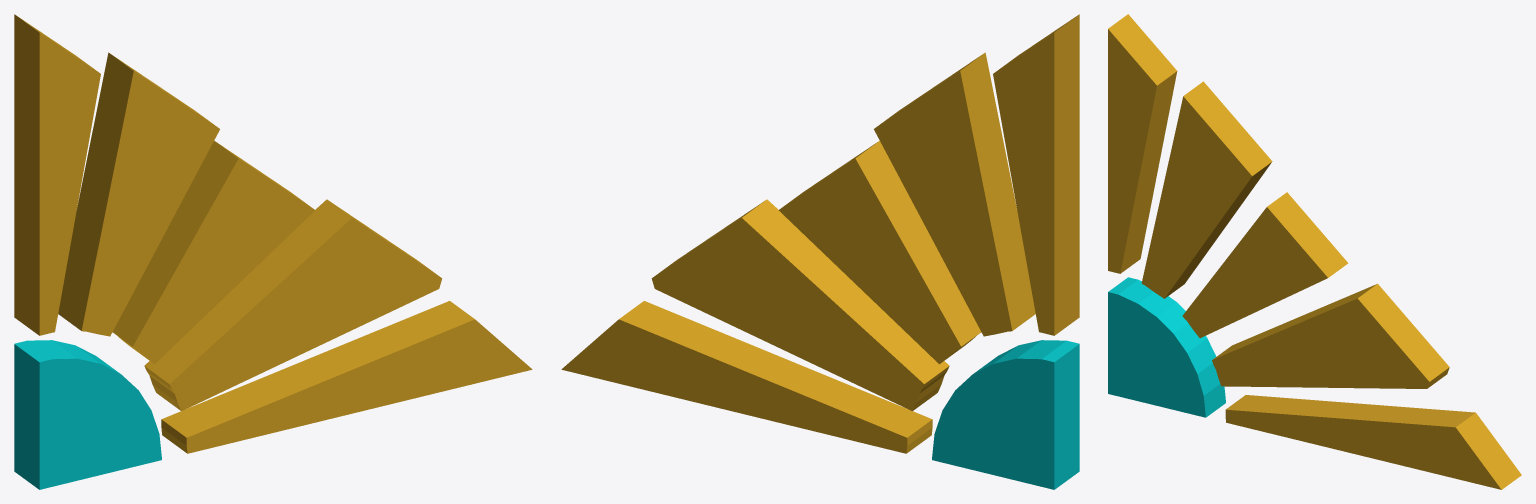
The model's file is Prop_Jungle_Temple_Ornament_Sun_Plaque_Small_Gold_Gem_02.FBX.
3 renders of one model, left to right at view 1: azimuth 30°, elevation 25°; view 2: azimuth 150°, elevation 25°; view 3: azimuth 330°, elevation 25°, orthographic. The views are drawn at different scales.
Visible parts, largest first — view 1: Prop_Jungle_Temple_Ornament_Sun_Plaque_Small_Gold_Gem_02; view 2: Prop_Jungle_Temple_Ornament_Sun_Plaque_Small_Gold_Gem_02; view 3: Prop_Jungle_Temple_Ornament_Sun_Plaque_Small_Gold_Gem_02.
Part boxes in pixels (x1,y1,x2,y2): Prop_Jungle_Temple_Ornament_Sun_Plaque_Small_Gold_Gem_02: [14, 14, 532, 489]; Prop_Jungle_Temple_Ornament_Sun_Plaque_Small_Gold_Gem_02: [561, 14, 1079, 489]; Prop_Jungle_Temple_Ornament_Sun_Plaque_Small_Gold_Gem_02: [1108, 14, 1521, 489].
Size of the model in its own units: 499 by 442 by 44.43.
